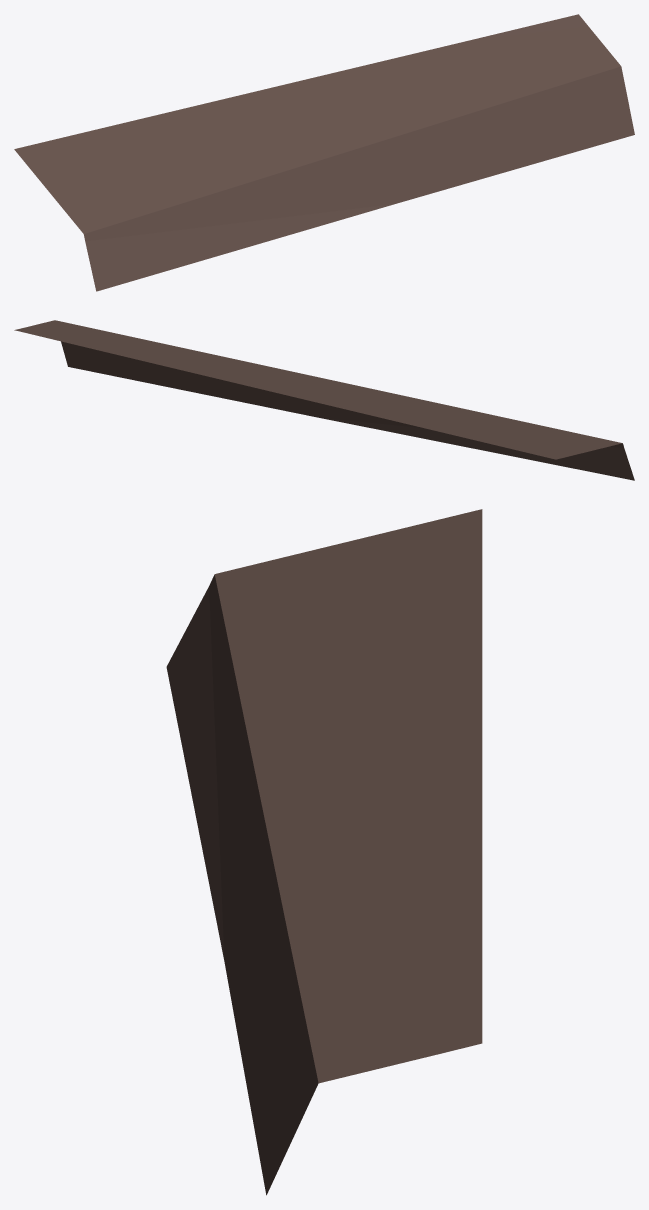
Rendered from cell_170.obj.
3 views of the same model, one above another, from view 1: azimuth 30°, elevation 25°; view 2: azimuth 150°, elevation 25°; view 3: azimuth 270°, elevation 25° (orthographic). The views are drawn at different scales.
Size of the model in its own units: 1 by 0.1392 by 0.2524.
